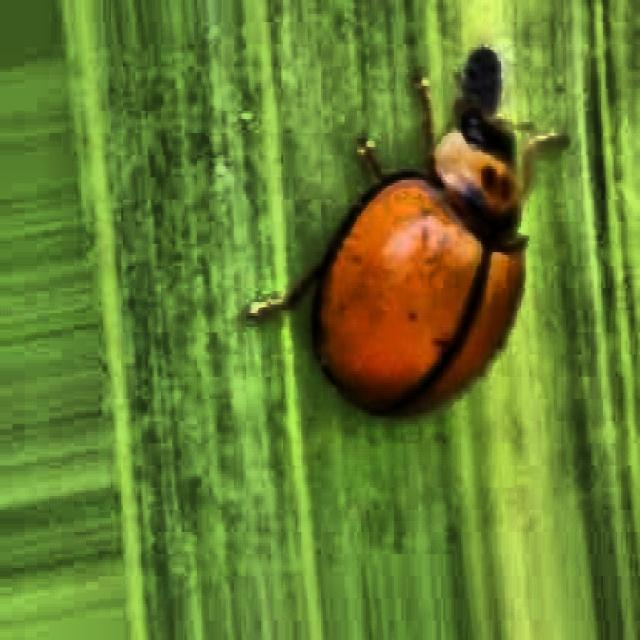Ladybug: (225, 18, 582, 462)
